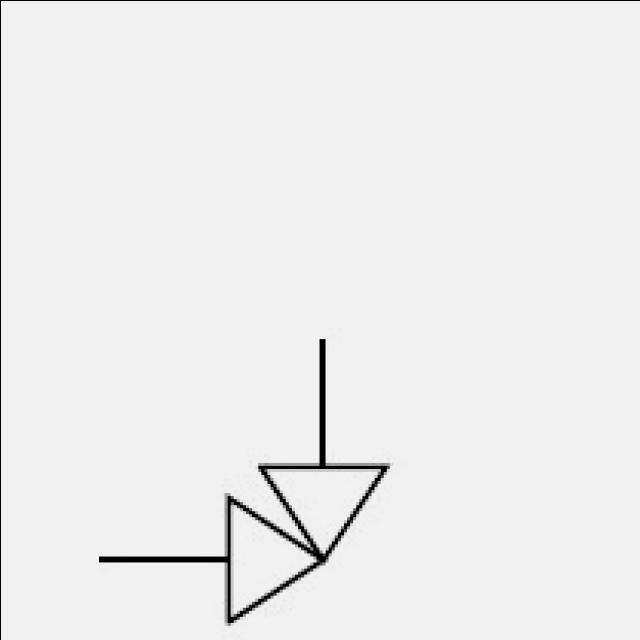Angle Valve: (168, 394, 430, 634)
